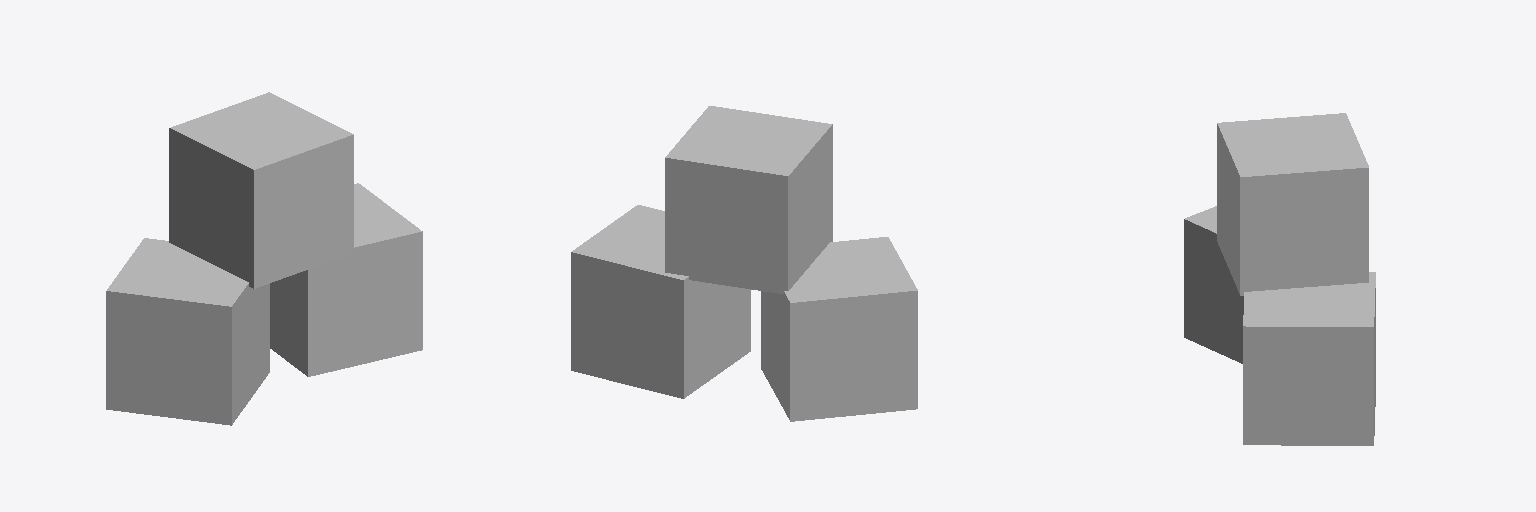
Rendered from quick.obj.
The picture shows the model from 3 angles: view 1: azimuth 30°, elevation 25°; view 2: azimuth 150°, elevation 25°; view 3: azimuth 270°, elevation 25°; orthographic projection.
Parts seen in each view (by area): view 1: Cube; view 2: Cube; view 3: Cube.
Part boxes in pixels (x1,y1,x2,y2): Cube: (106,92,422,425); Cube: (571,106,917,421); Cube: (1184,113,1375,445).
Bounding box in the file's own units: 5.28 × 3.94 × 2.93.